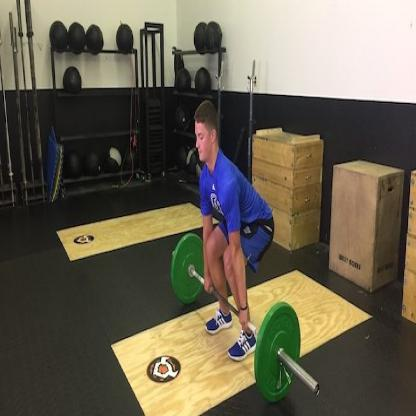Barbell: (250, 296, 326, 410)
